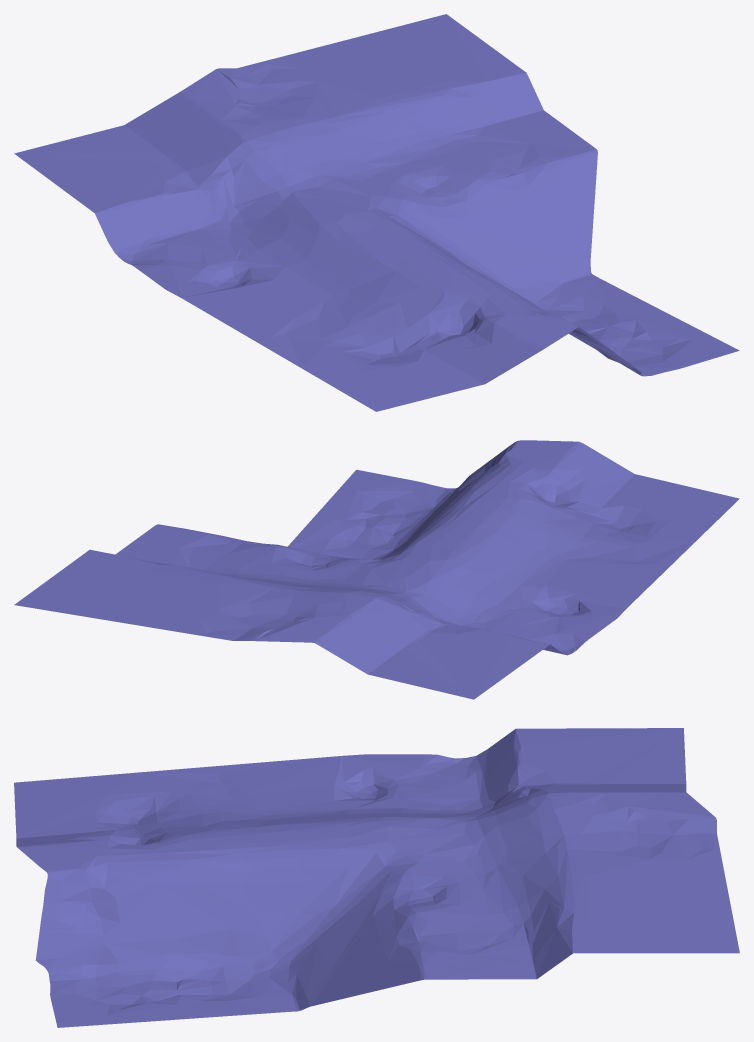
Rendered from CA2_ceiling.fbx.
The picture shows the model from 3 angles, top to bottom: view 1: azimuth 30°, elevation 25°; view 2: azimuth 150°, elevation 25°; view 3: azimuth 270°, elevation 25°; orthographic projection. The views are drawn at different scales.
Parts seen in each view (by area): view 1: CA2_ceiling; view 2: CA2_ceiling; view 3: CA2_ceiling.
Boxes of the visible parts, x1,y1,x2,y2 form: CA2_ceiling: (14, 14, 739, 411); CA2_ceiling: (14, 440, 739, 699); CA2_ceiling: (14, 728, 739, 1027).
Size of the model in its own units: 259 by 56.45 by 341.
